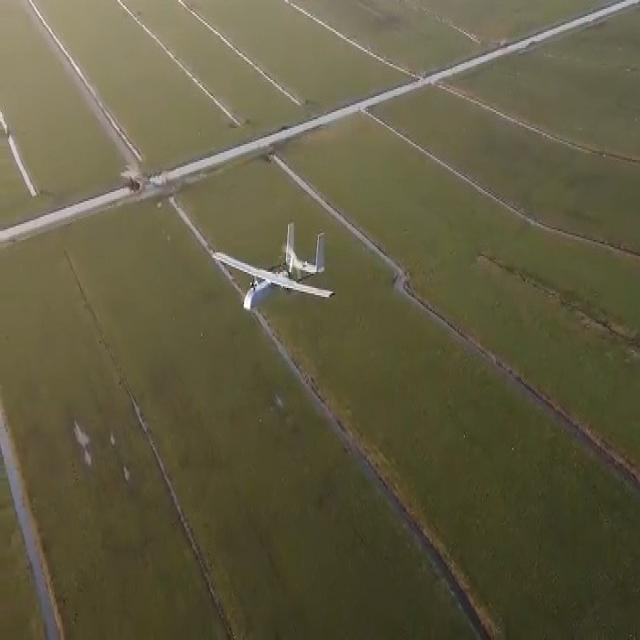iha: (246, 252, 304, 296)
